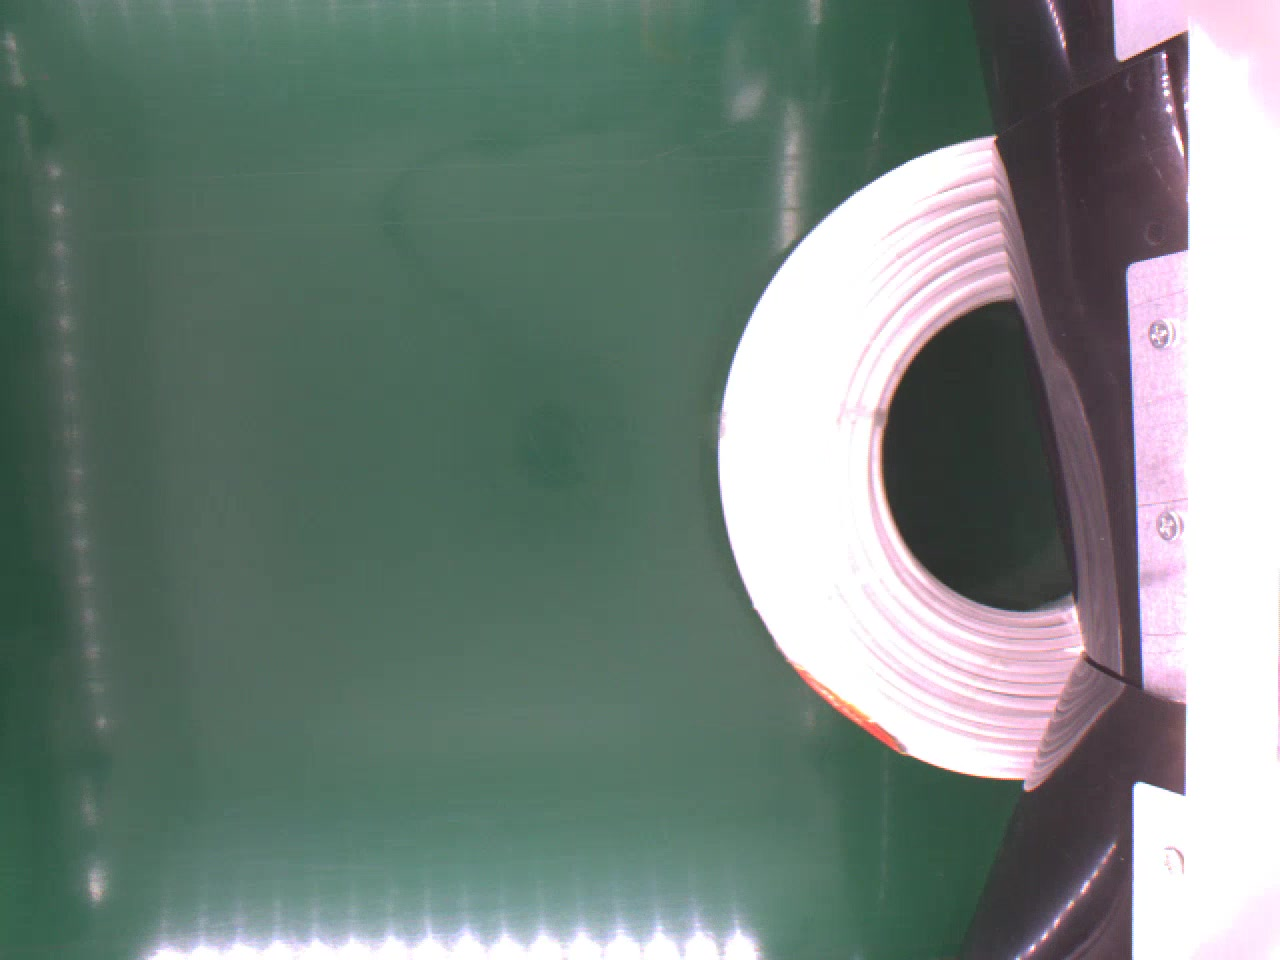white: (715, 137, 1087, 781)
